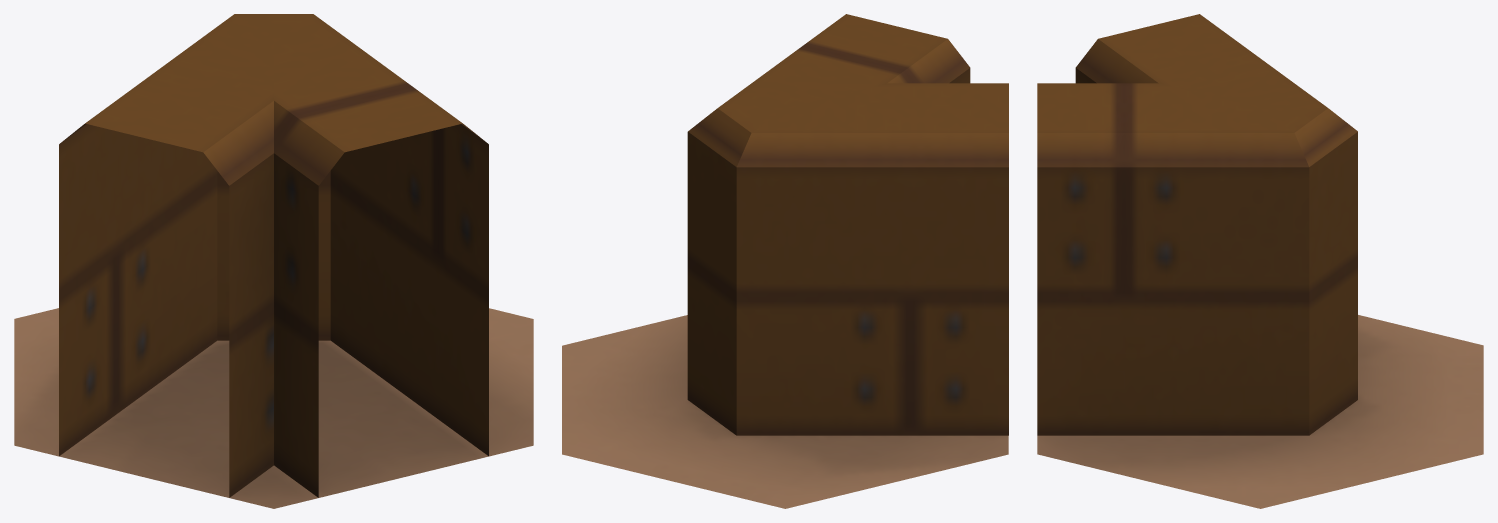
Rendered from Barriere_L2.FBX.
3 views of the same model, side by side, from view 1: azimuth 30°, elevation 25°; view 2: azimuth 150°, elevation 25°; view 3: azimuth 270°, elevation 25° (orthographic). The views are drawn at different scales.
Parts seen in each view (by area): view 1: Barriere_L2; view 2: Barriere_L2; view 3: Barriere_L2.
Part boxes in pixels (<box>): Barriere_L2: <box>14,14,533,508</box>; Barriere_L2: <box>562,14,1008,508</box>; Barriere_L2: <box>1037,14,1483,508</box>.
Bounding box in the file's own units: 1 × 0.6247 × 0.8661.
